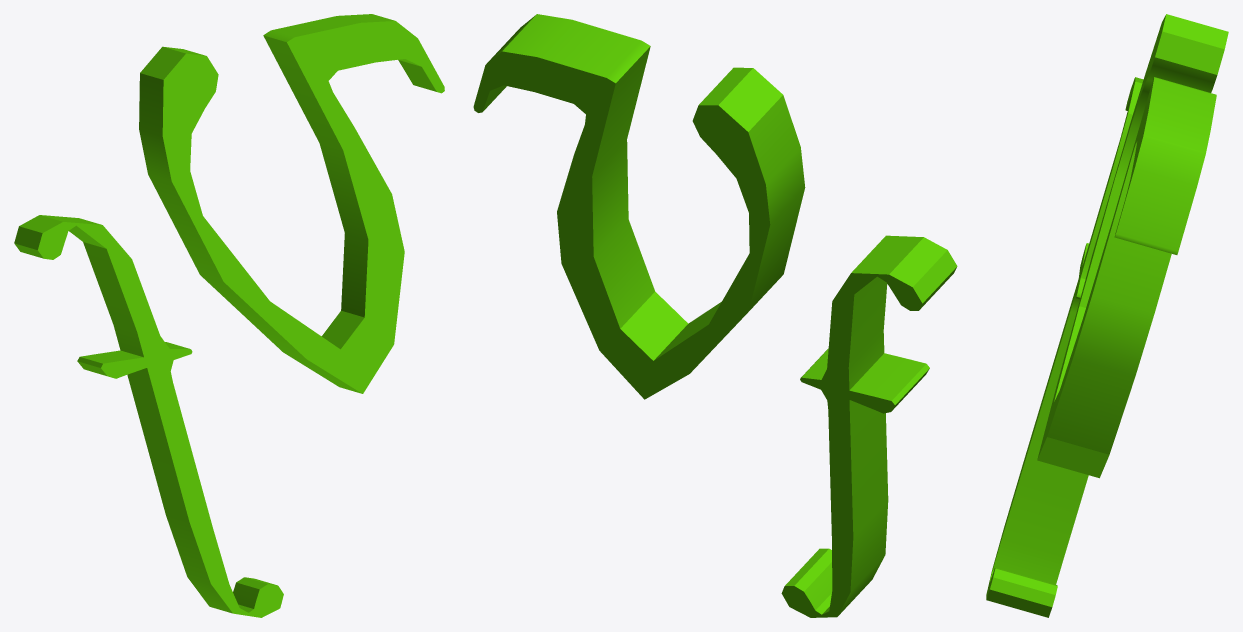
Rendered from vf_formula_B.fbx.
The picture shows the model from 3 angles, left to right: view 1: azimuth 30°, elevation 25°; view 2: azimuth 150°, elevation 25°; view 3: azimuth 270°, elevation 25°; orthographic projection. The views are drawn at different scales.
Visible parts, largest first — view 1: vf_formula_B; view 2: vf_formula_B; view 3: vf_formula_B.
Part boxes in pixels (<box>): vf_formula_B: <box>14,14,444,617</box>; vf_formula_B: <box>473,14,957,617</box>; vf_formula_B: <box>986,14,1228,617</box>.
Bounding box in the file's own units: 3.72 × 4.58 × 1.68.
